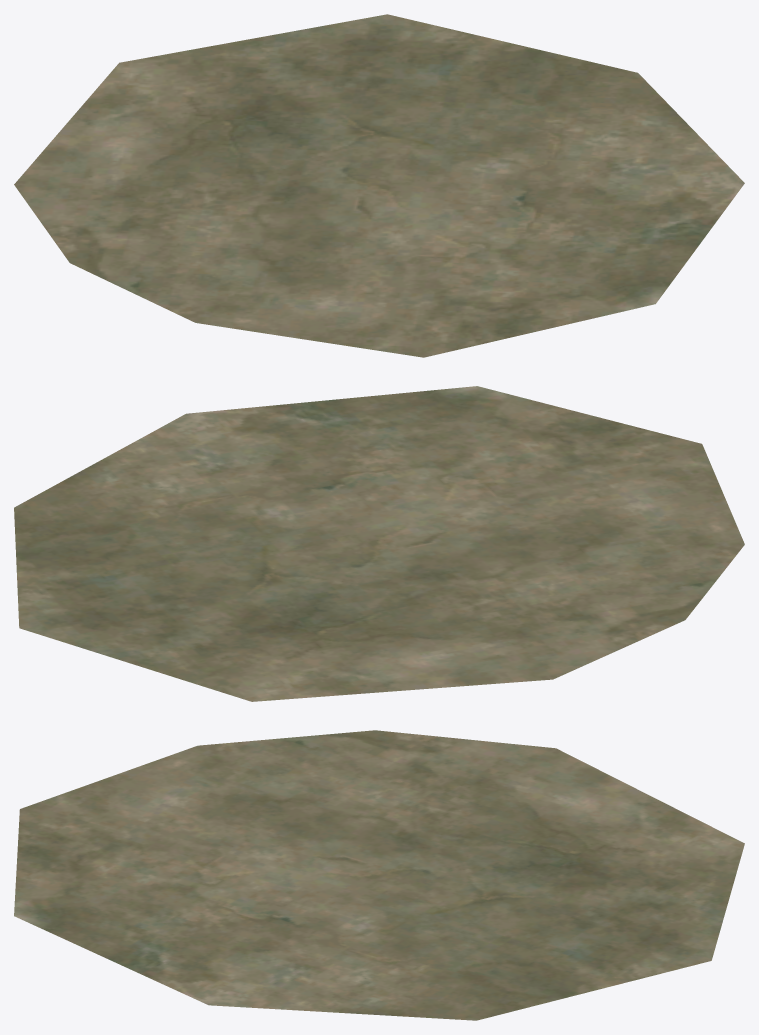
The model's file is OVERHILL_A_01_OBJECT36.fbx.
3 renders of one model, top to bottom at view 1: azimuth 30°, elevation 25°; view 2: azimuth 150°, elevation 25°; view 3: azimuth 270°, elevation 25°, orthographic. The views are drawn at different scales.
Parts seen in each view (by area): view 1: OVERHILL_A_01_OBJECT36; view 2: OVERHILL_A_01_OBJECT36; view 3: OVERHILL_A_01_OBJECT36.
Boxes of the visible parts, x1=… form: OVERHILL_A_01_OBJECT36: x1=14, y1=14, x2=744, y2=357; OVERHILL_A_01_OBJECT36: x1=14, y1=386, x2=744, y2=701; OVERHILL_A_01_OBJECT36: x1=14, y1=730, x2=744, y2=1020.
Bounding box in the file's own units: 12063 × 0.00209 × 12830.
Materials: 1 (1 with a texture image).
